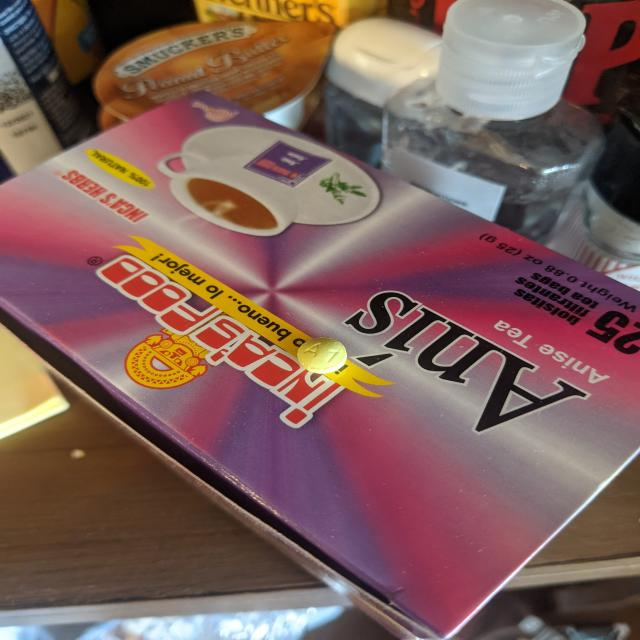non-organic waste: (296, 336, 348, 374)
